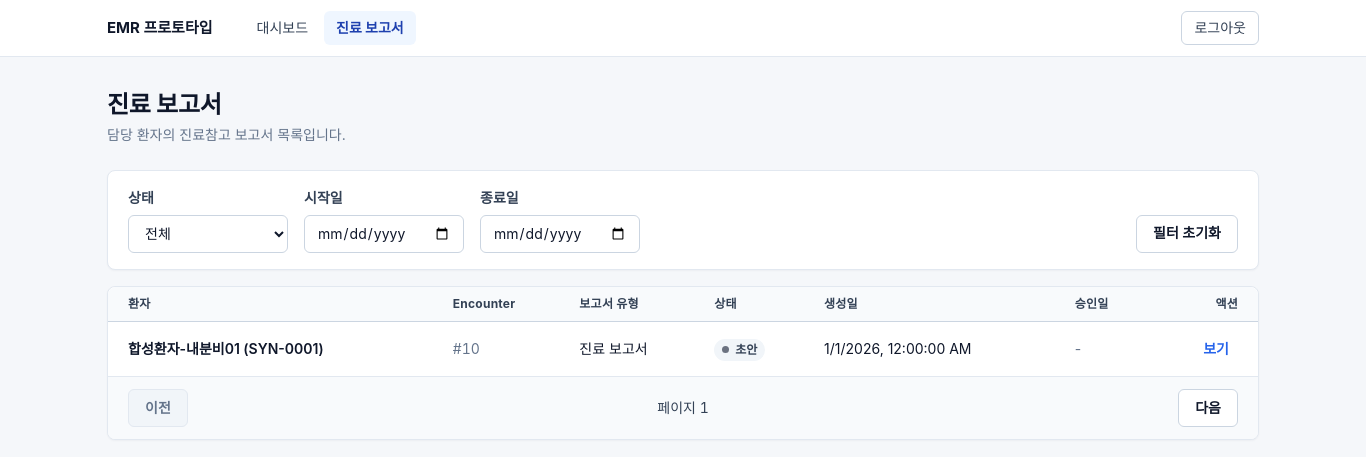
Scenario: DoctorReportsPage › paginates with previous/next, disabling at the first and last page
The image size is (1366, 457).
Expected: the table is shown, [108,287,1258,376]
Expected: the button "이전" is disabled, [128,389,188,427]
Click the button "다음": x=1208, y=408 [1178,389,1238,427]
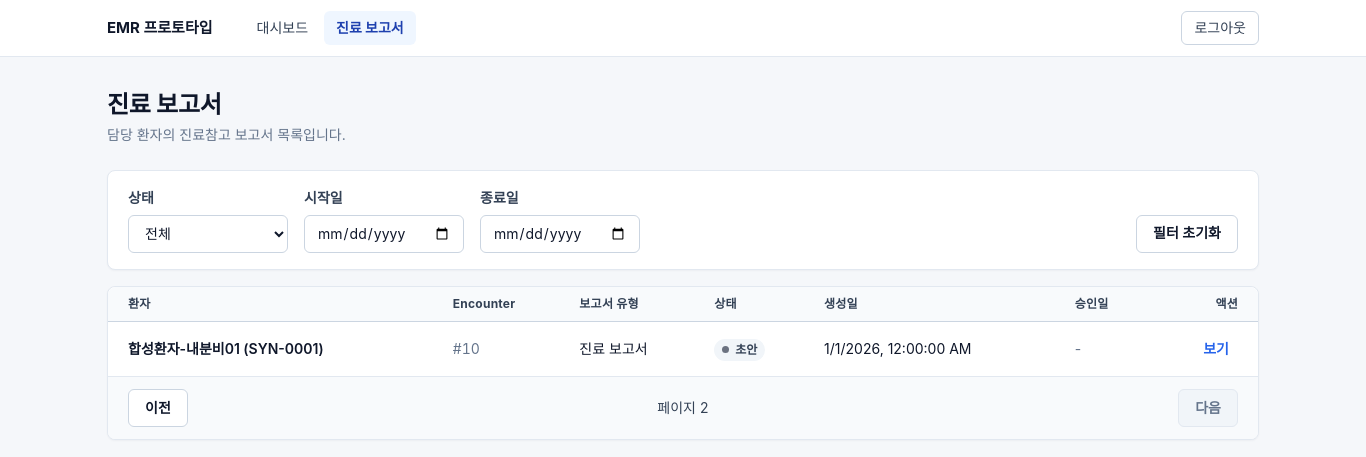
Result: the button "다음" is disabled at [1178,389,1238,427]
Result: the button "이전" is enabled at [128,389,188,427]
